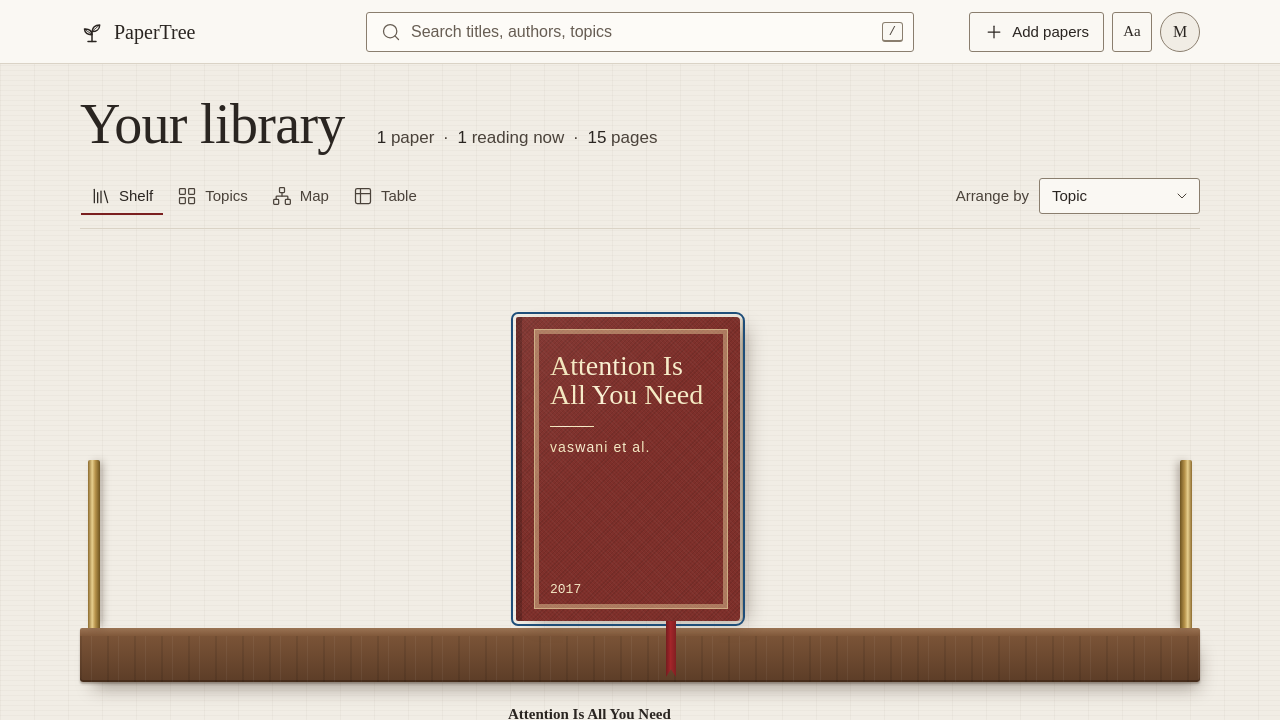
Test: the bookplate › names the library from display_name
Press Enter in the button "Attention Is All You Need Vaswani et al. 2017", box [516, 317, 740, 621]
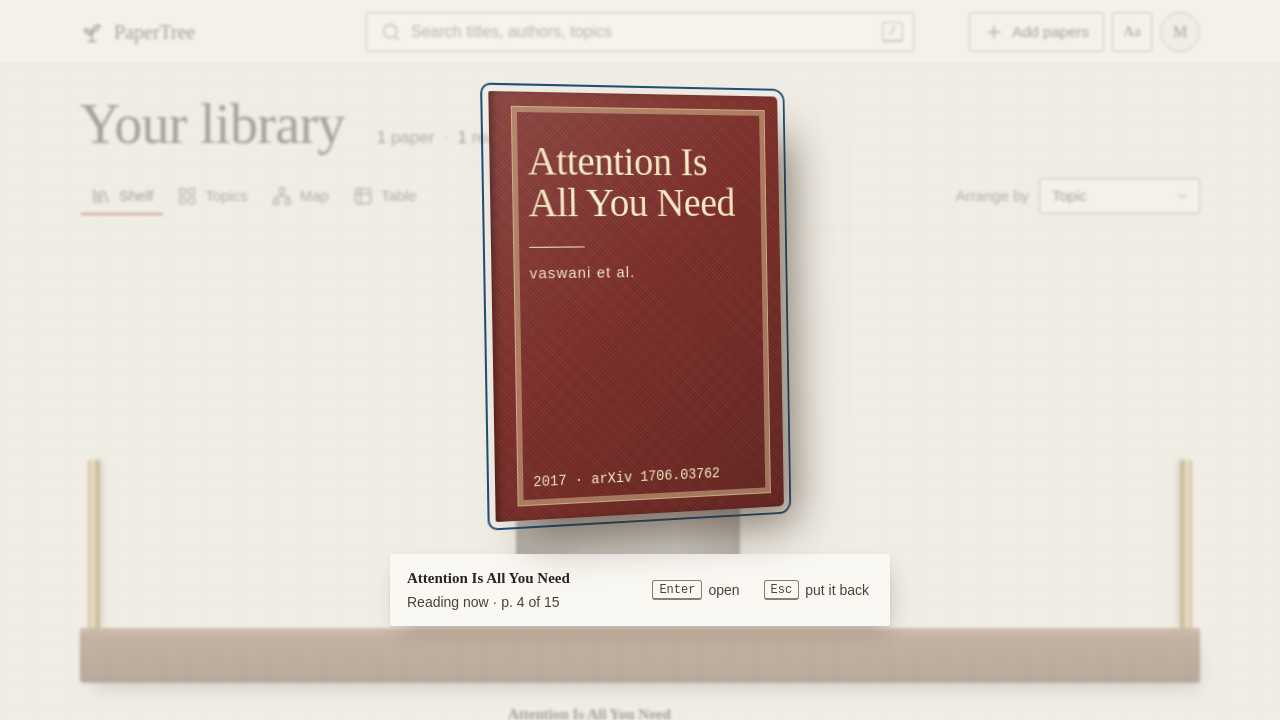
Click the button with aria-label "Open Attention Is All You Need" at [636, 307], box [488, 91, 784, 522]
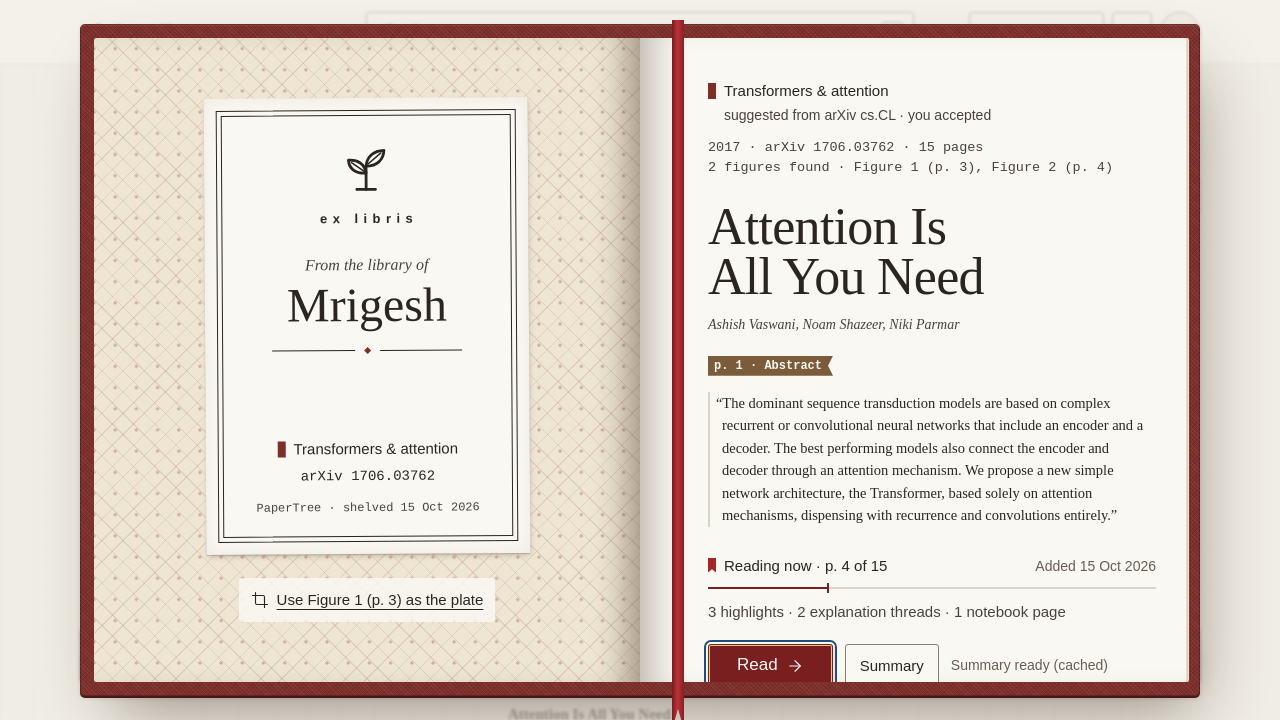
expect the element that starts with "ex libris" shows "PaperTree · shelved 15 Oct 2026": met, box [256, 500, 480, 516]
